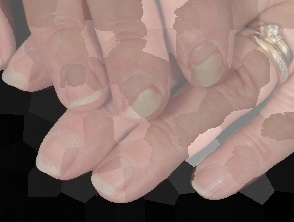Nail_psoriasis: (117, 80, 169, 121), (182, 50, 229, 91)
